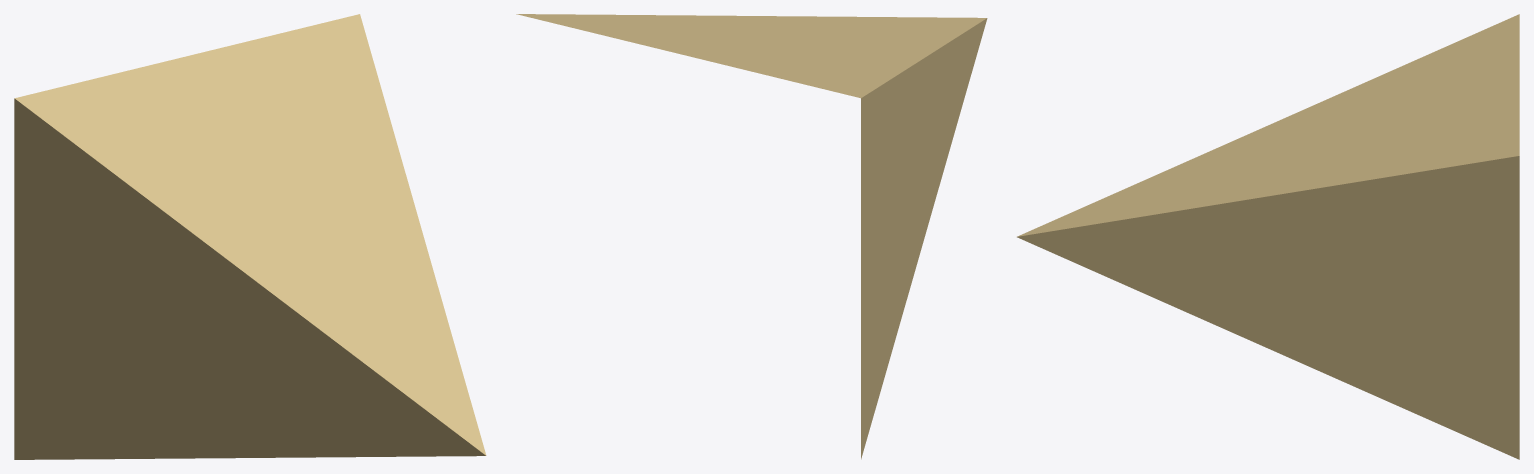
3 views of the same model, side by side, from view 1: azimuth 30°, elevation 25°; view 2: azimuth 150°, elevation 25°; view 3: azimuth 270°, elevation 25° (orthographic). The views are drawn at different scales.
Visible parts, largest first — view 1: world; view 2: world; view 3: world.
Boxes of the visible parts, left/top/right/bottom form: world: left=14, top=14, right=486, bottom=459; world: left=516, top=14, right=987, bottom=459; world: left=1017, top=14, right=1519, bottom=459.
Bounding box in the file's own units: 2 × 2 × 3.
